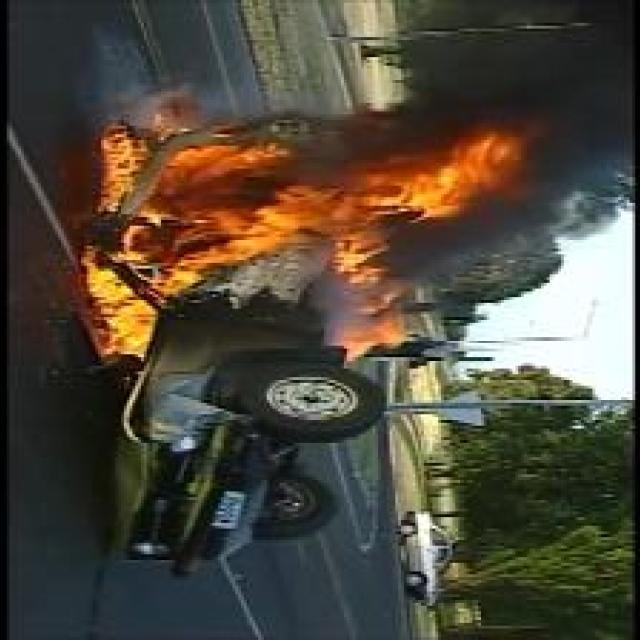Fire: (86, 111, 552, 363)
